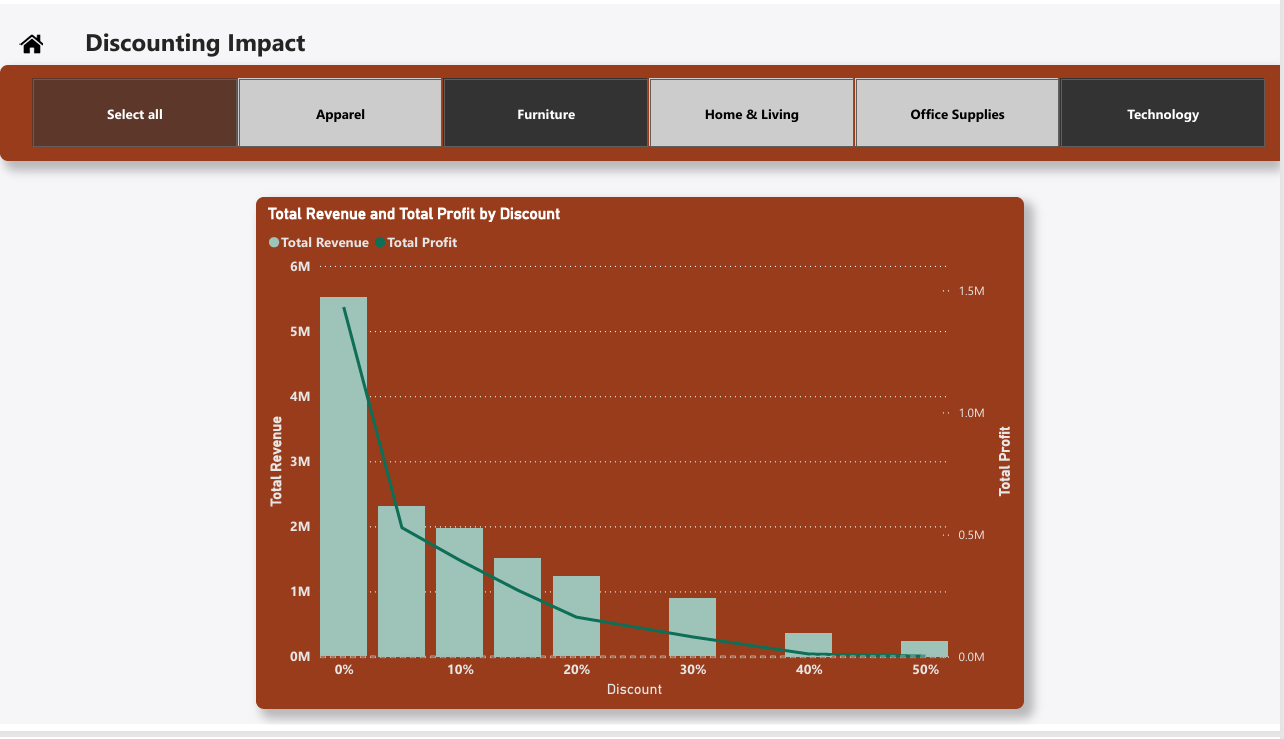

Layout of this report page (visuals, bound fields, positions):
{"tool":"powerbi","page":{"name":"Discounting Impact","canvas":[1280,720],"ordinal":6},"visuals":[{"type":"image","box":[20,15,24,48],"z":0,"group":"g1"},{"type":"slicer","fields":{"Values":["sales_revenue_dataset.Category"]},"box":[0,60,1296,96],"z":0},{"type":"textbox","box":[80,15,432,72],"z":1000,"group":"g1"},{"type":"group","id":"g1","title":"Group 1","box":[20,15,492,72],"z":3000},{"type":"lineClusteredColumnComboChart","fields":{"Category":["sales_revenue_dataset.Discount"],"Y":["sales_revenue_dataset.Total Revenue"],"Y2":["sales_revenue_dataset.Total Profit"]},"box":[256,192,768,512],"z":6001}]}

Visuals, with their boxes in screenshot pixels (x1, y1, x2, y2), scaled from the page's 1280x720 canvas onto the 1284x739 screenshot:
image: detection(20, 15, 44, 65)
slicer - sales_revenue_dataset.Category: detection(0, 62, 1283, 160)
textbox: detection(80, 15, 514, 89)
"Group 1" group: detection(20, 15, 514, 89)
lineClusteredColumnComboChart - sales_revenue_dataset.Discount x sales_revenue_dataset.Total Revenue: detection(257, 197, 1027, 723)
